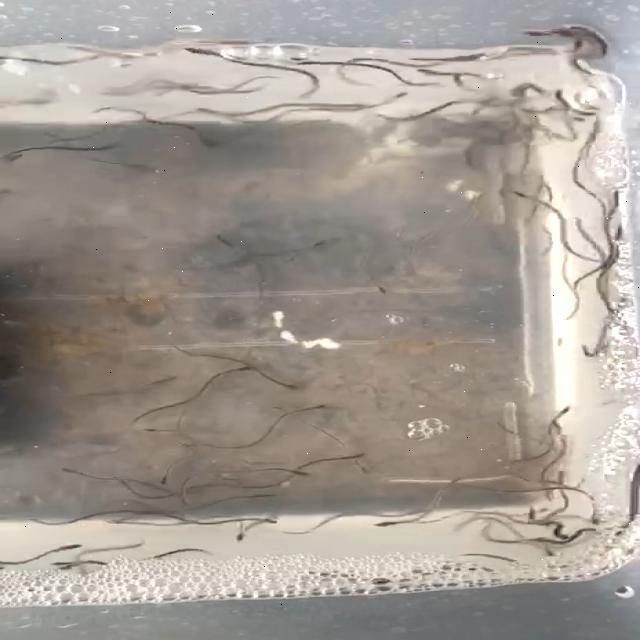inactive_glass_eel: (286, 57, 333, 73), (533, 86, 583, 100), (210, 228, 244, 248), (544, 526, 572, 550), (136, 421, 170, 440), (219, 530, 253, 548), (504, 182, 536, 200), (183, 48, 224, 62), (382, 86, 410, 105), (55, 540, 84, 558), (164, 372, 196, 388), (304, 235, 334, 252), (229, 358, 257, 376), (520, 28, 570, 38), (273, 376, 303, 392), (366, 278, 392, 296), (365, 518, 393, 534), (148, 472, 174, 488), (608, 224, 628, 244), (295, 467, 323, 481), (340, 461, 372, 473), (554, 400, 581, 414), (348, 449, 374, 462), (424, 63, 451, 75), (254, 489, 278, 502), (574, 524, 598, 536), (10, 146, 26, 163)
